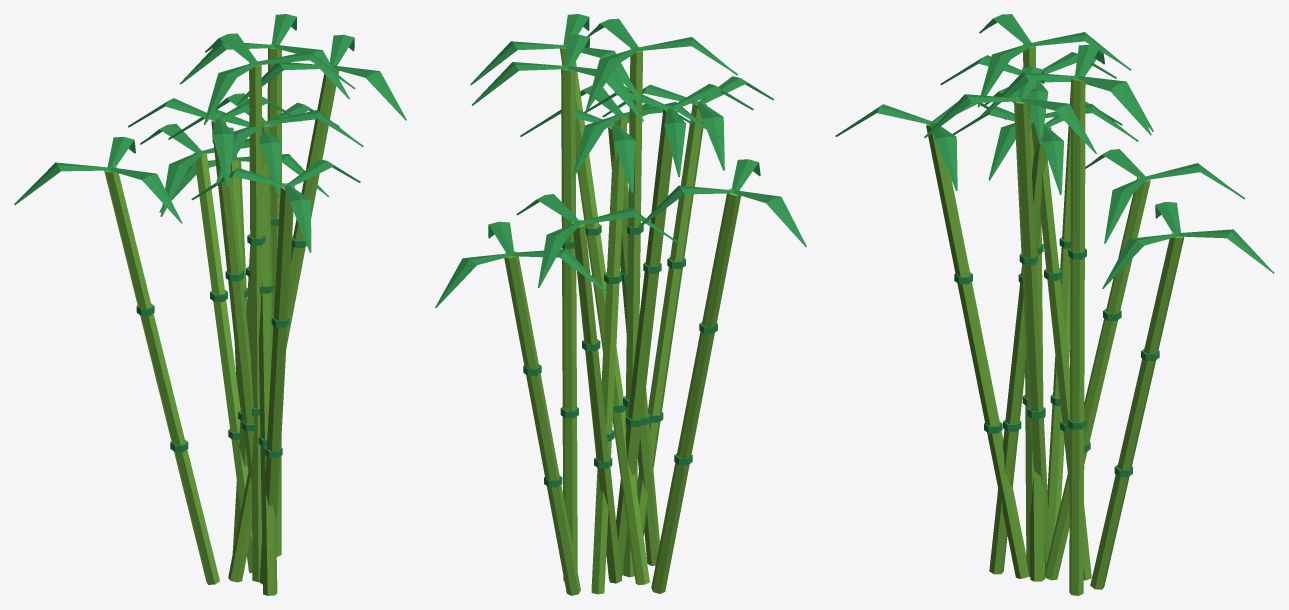
Rendered from Tacuara.fbx.
3 renders of one model, left to right at view 1: azimuth 30°, elevation 25°; view 2: azimuth 150°, elevation 25°; view 3: azimuth 270°, elevation 25°, orthographic.
Parts seen in each view (by area): view 1: Tacuara; view 2: Tacuara; view 3: Tacuara.
Boxes of the visible parts, x1,y1,x2,y2 form: Tacuara: [14, 14, 406, 595]; Tacuara: [435, 14, 806, 595]; Tacuara: [835, 14, 1274, 595].
Size of the model in its own units: 2.14 by 3.22 by 2.38.
